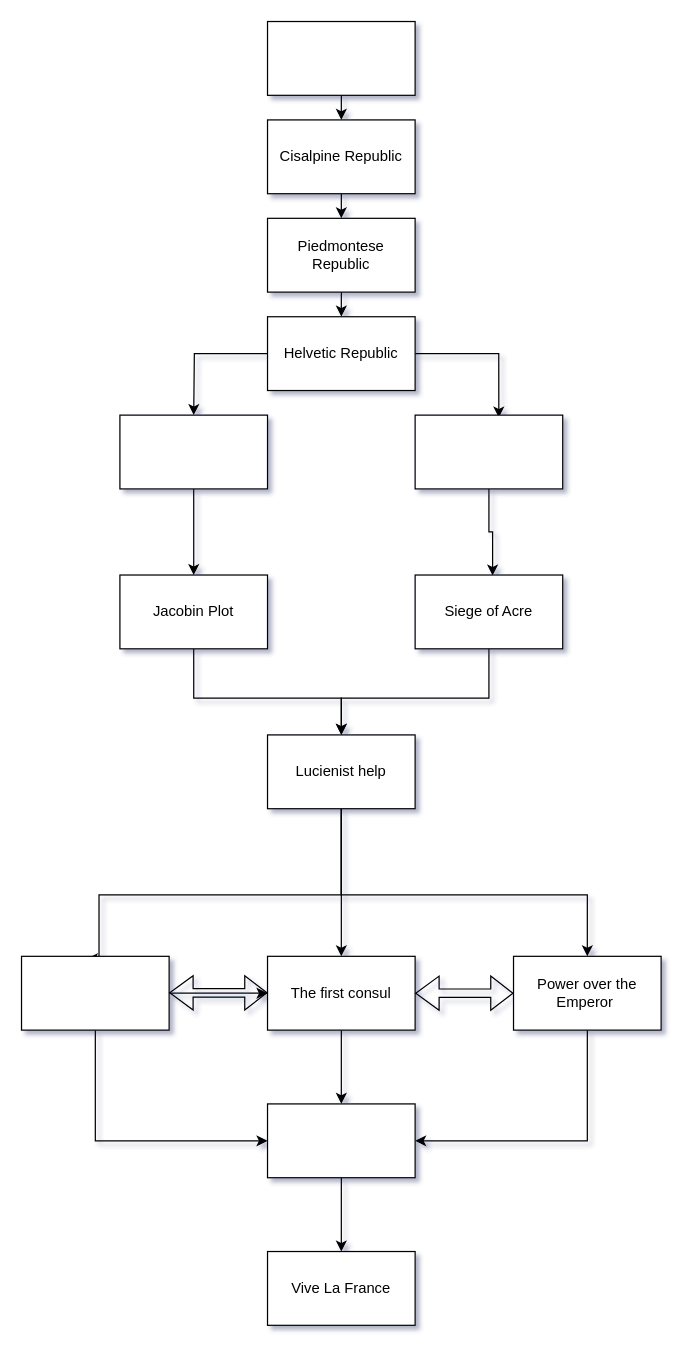
This 690x1354 diagram has some shape labels left out. The box of each missing label's shape, as (x1, y1, x2, y2) in pixels:
I am The Revolution: (266, 1103, 415, 1178)
Power over the pope: (20, 955, 169, 1030)
Roman Republic: (119, 414, 268, 489)
Sister Republic of the Dutch: (266, 20, 415, 95)
Undermine British Access to India: (414, 414, 563, 489)
